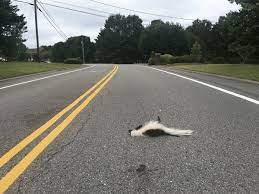skunk: (128, 116, 193, 138)
